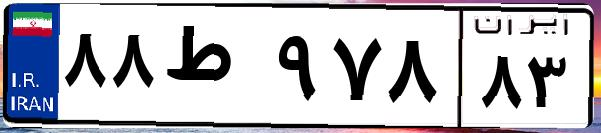3: (525, 38, 570, 115)
7: (330, 28, 385, 110)
8: (385, 28, 445, 110), (57, 26, 110, 100), (475, 38, 525, 113), (110, 28, 158, 98)
9: (270, 28, 330, 110)
ط: (158, 20, 270, 120)
